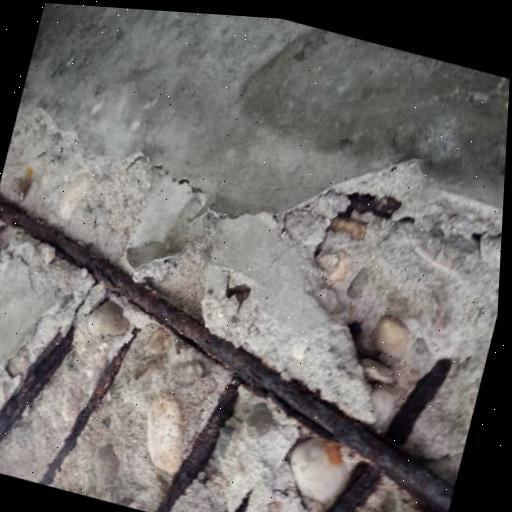exposed_rebar: (0, 200, 454, 512), (0, 200, 453, 512), (43, 330, 138, 485), (0, 326, 74, 442), (345, 193, 401, 218), (235, 493, 249, 512)
